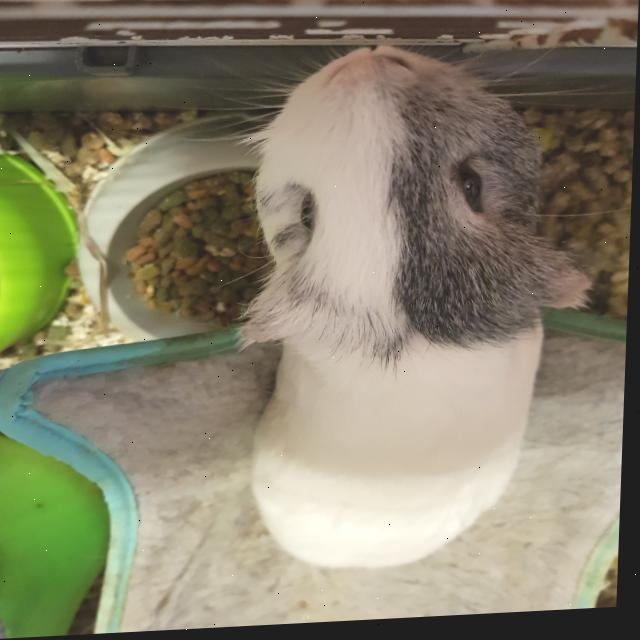guinea pig: (232, 36, 606, 582)
